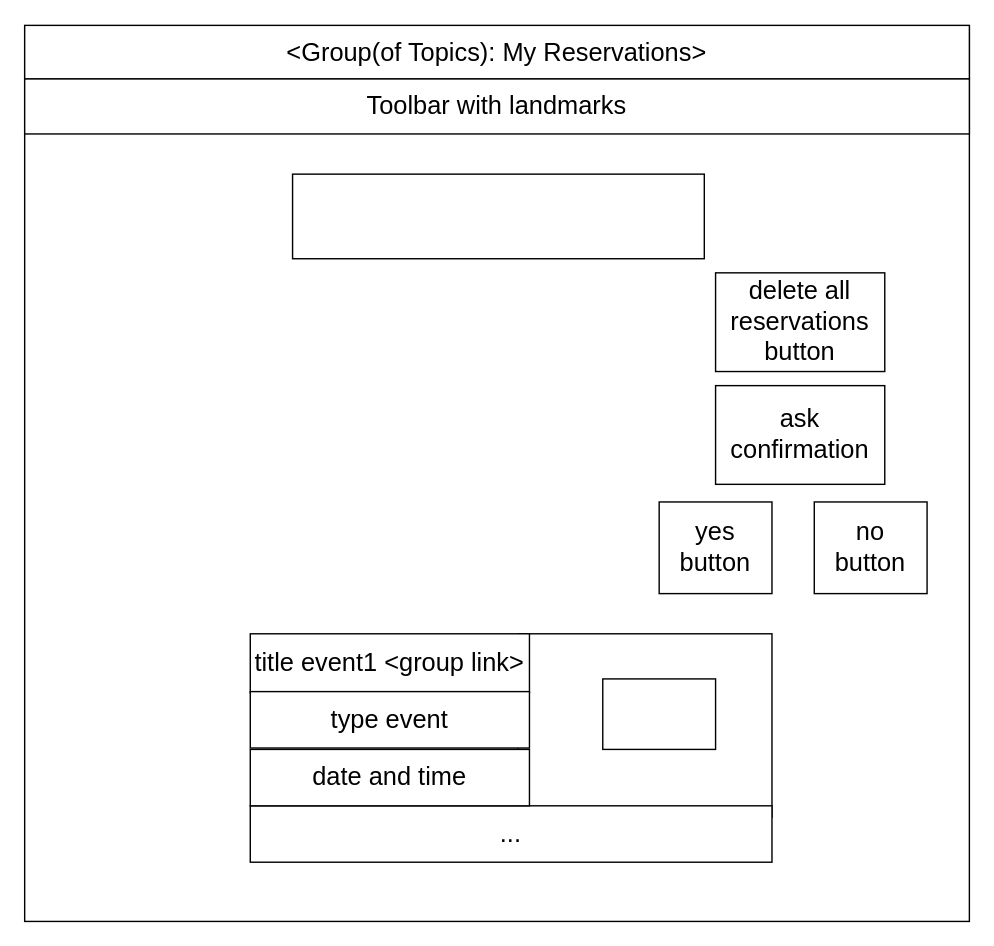
Image size: 994x946. Some labels were removed from this diagram. Each missing label, with the box of its shape:
Orientation info: (291, 173, 704, 259)
remove button: (601, 678, 716, 749)
